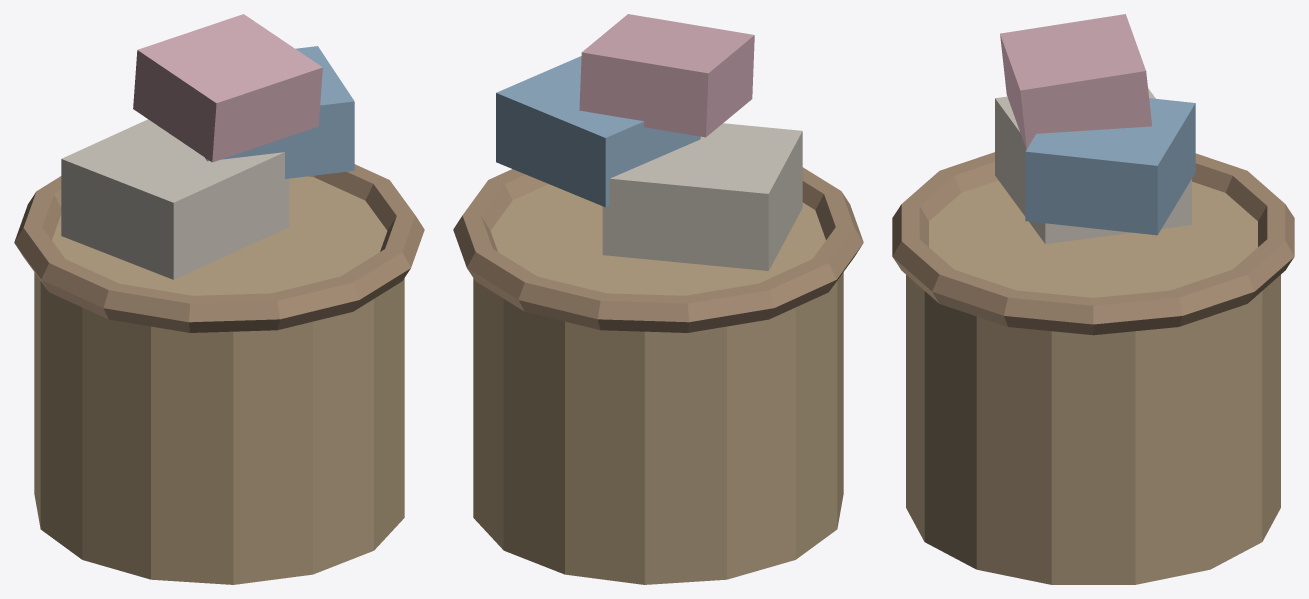
Rendered from aces_cesto_roupa2.glb.
The picture shows the model from 3 angles, left to right: view 1: azimuth 30°, elevation 25°; view 2: azimuth 150°, elevation 25°; view 3: azimuth 270°, elevation 25°; orthographic projection.
Visible parts, largest first — view 1: ACES_CESTO_ROUPA2; view 2: ACES_CESTO_ROUPA2; view 3: ACES_CESTO_ROUPA2.
Boxes of the visible parts, <box> form: ACES_CESTO_ROUPA2: <box>14,14,424,584</box>; ACES_CESTO_ROUPA2: <box>453,14,863,584</box>; ACES_CESTO_ROUPA2: <box>892,14,1294,584</box>.
Size of the model in its own units: 0.484 by 0.5973 by 0.4719.
